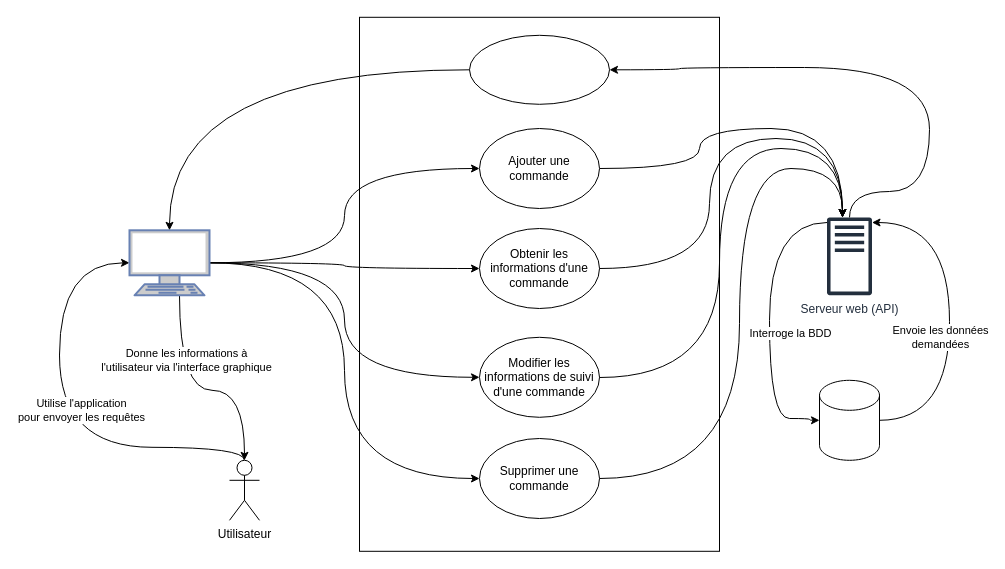
Some shapes in this 1005 by 569 pixel diagram are drawn without their labels. Each missing label, with the box of its shape:
Application cliente: (128, 229, 210, 296)
BDD: (818, 379, 880, 460)
Renvoie les données et le statut de la requête: (468, 34, 610, 104)
